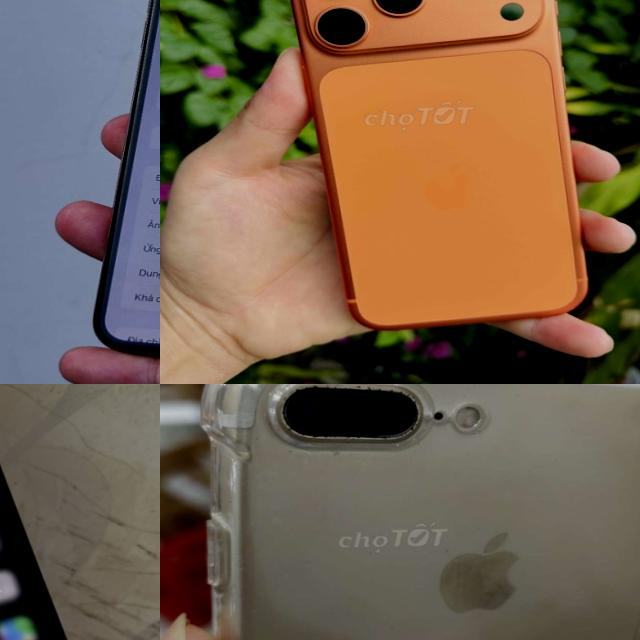scratch: (240, 384, 430, 445), (438, 526, 529, 619)
